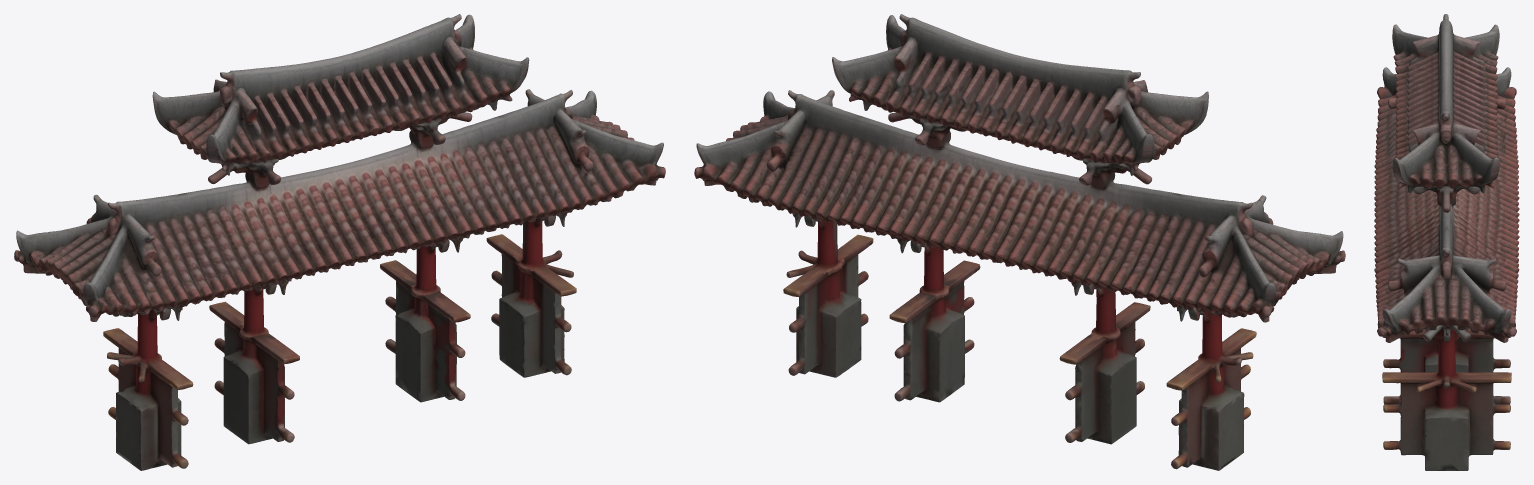
The model's file is AR_prd.glb.
The picture shows the model from 3 angles, left to right: view 1: azimuth 30°, elevation 25°; view 2: azimuth 150°, elevation 25°; view 3: azimuth 270°, elevation 25°; orthographic projection. The views are drawn at different scales.
Visible parts, largest first — view 1: mesh_node; view 2: mesh_node; view 3: mesh_node.
Part boxes in pixels (left/top/right/bottom): mesh_node: left=14, top=14, right=665, bottom=470; mesh_node: left=694, top=14, right=1345, bottom=470; mesh_node: left=1374, top=14, right=1519, bottom=470.
Size of the model in its own units: 1.9 by 1.15 by 0.4775.
Materials: 1 (1 with a texture image).
